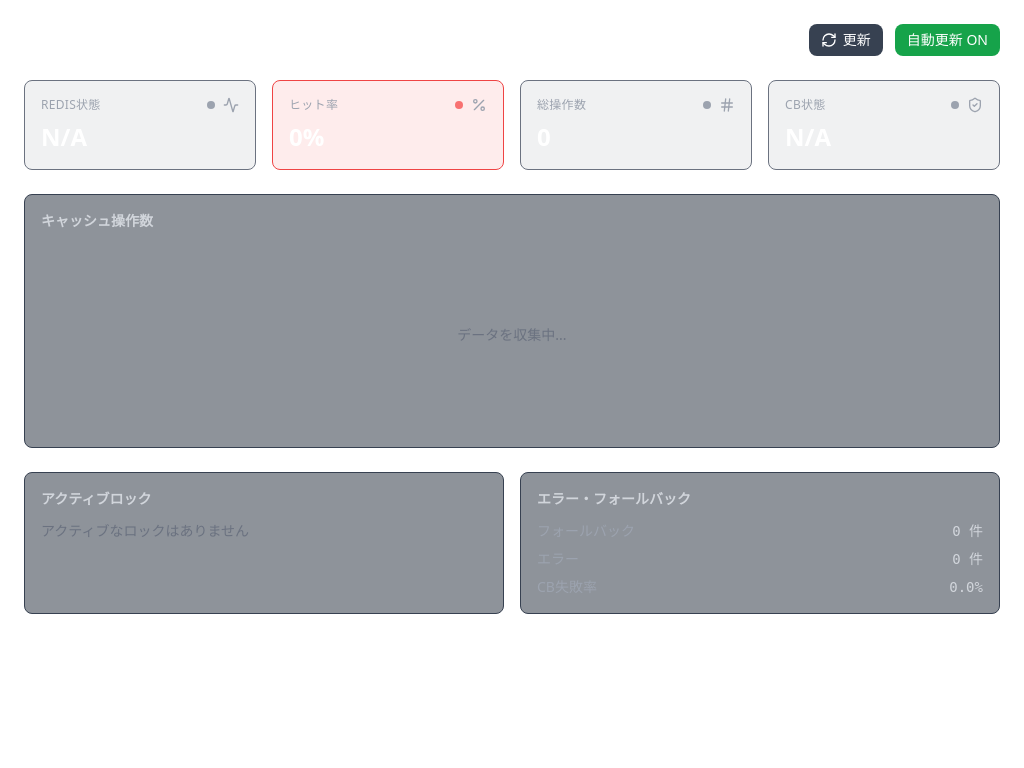
Test: DashboardPage › toggles auto-refresh to OFF when clicked
Click the button "自動更新 ON".
click(947, 40)  # box 895,24 -> 1000,56
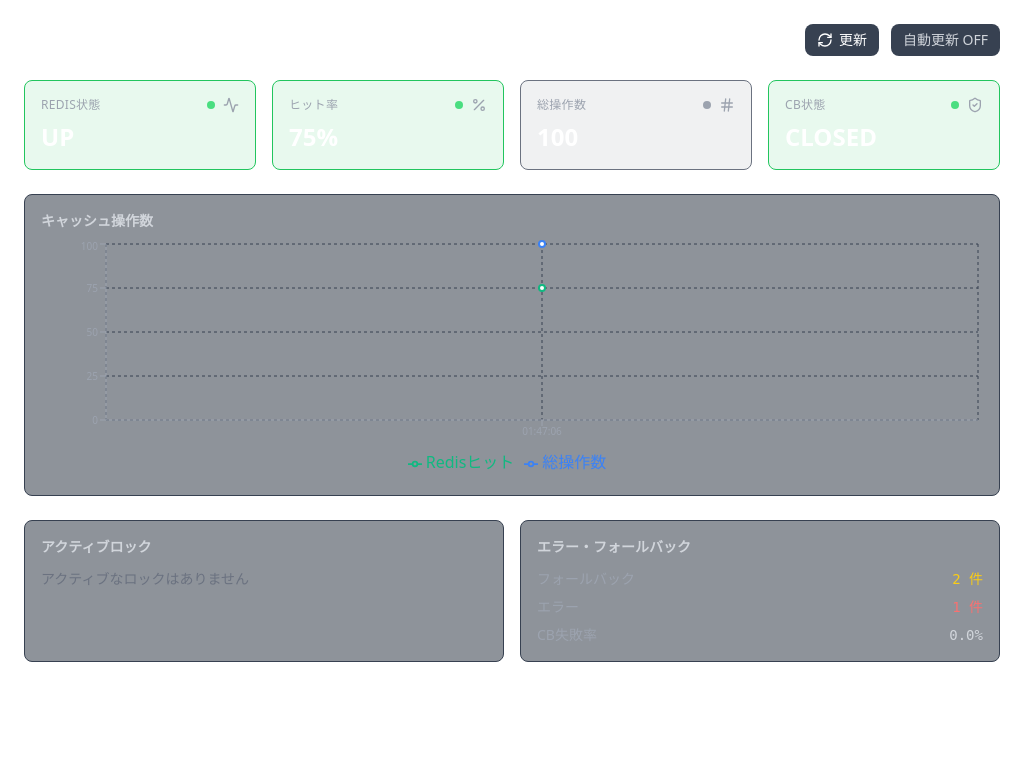
expect the button "自動更新 OFF" is shown: met, box 891,24 -> 1000,56
